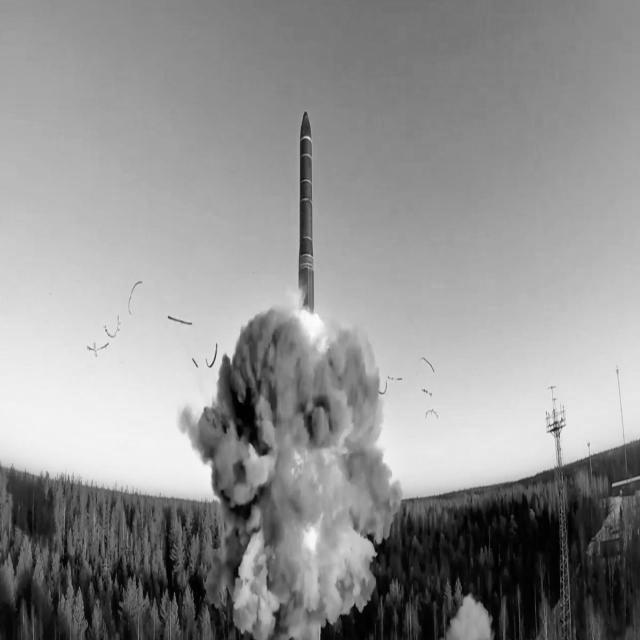Missile: (291, 95, 321, 311)
